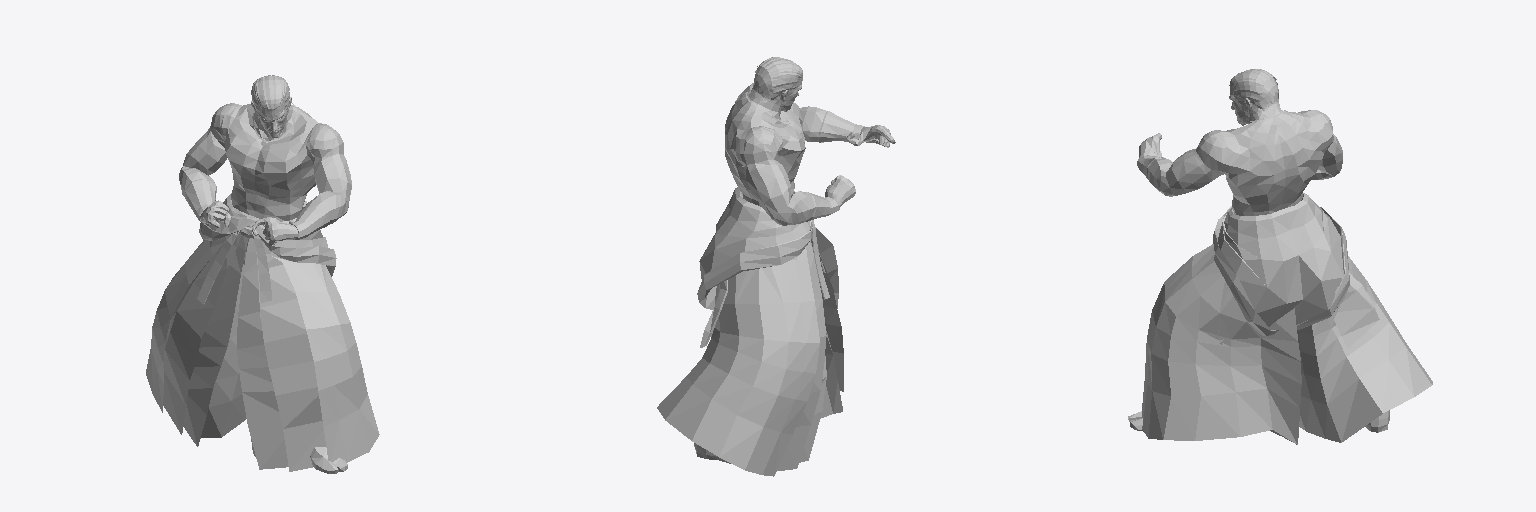
File: geese_attack_000016.obj
The picture shows the model from 3 angles: view 1: azimuth 30°, elevation 25°; view 2: azimuth 150°, elevation 25°; view 3: azimuth 270°, elevation 25°; orthographic projection.
Visible parts, largest first — view 1: GamemodelShape1.002, hairShape; view 2: GamemodelShape1.002, hairShape; view 3: GamemodelShape1.002, hairShape.
Boxes of the visible parts, box(x1,y1,x2,y2) form: GamemodelShape1.002: box(146, 97, 379, 473); hairShape: box(251, 75, 289, 112); GamemodelShape1.002: box(657, 77, 895, 476); hairShape: box(751, 57, 802, 102); GamemodelShape1.002: box(1128, 87, 1432, 444); hairShape: box(1229, 69, 1279, 111).
Bounding box in the file's own units: 1.89 × 4.87 × 3.62.